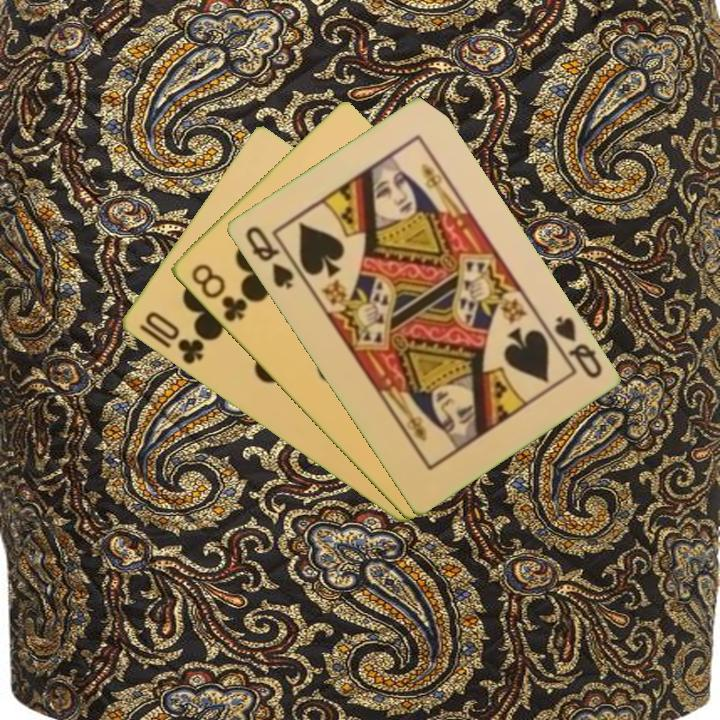10c: (140, 308, 207, 368)
8c: (187, 260, 250, 325)
Qs: (540, 312, 605, 382), (241, 222, 297, 293)
